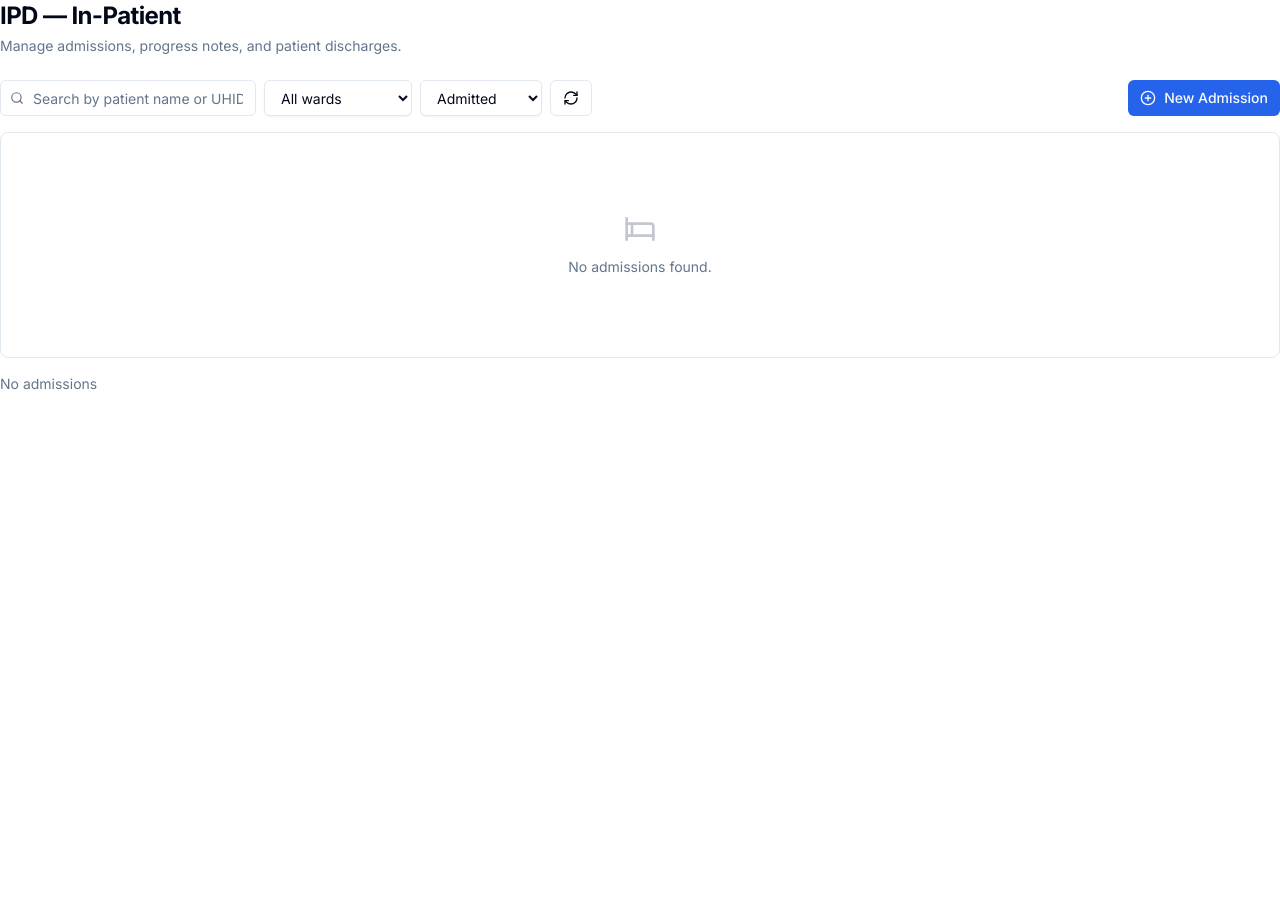
IPD New Admission — optional package › clearing the package restores manual ward selection and resets ward + bed
Click the button "New Admission".
click(1204, 98)  # box [1128, 80, 1279, 116]
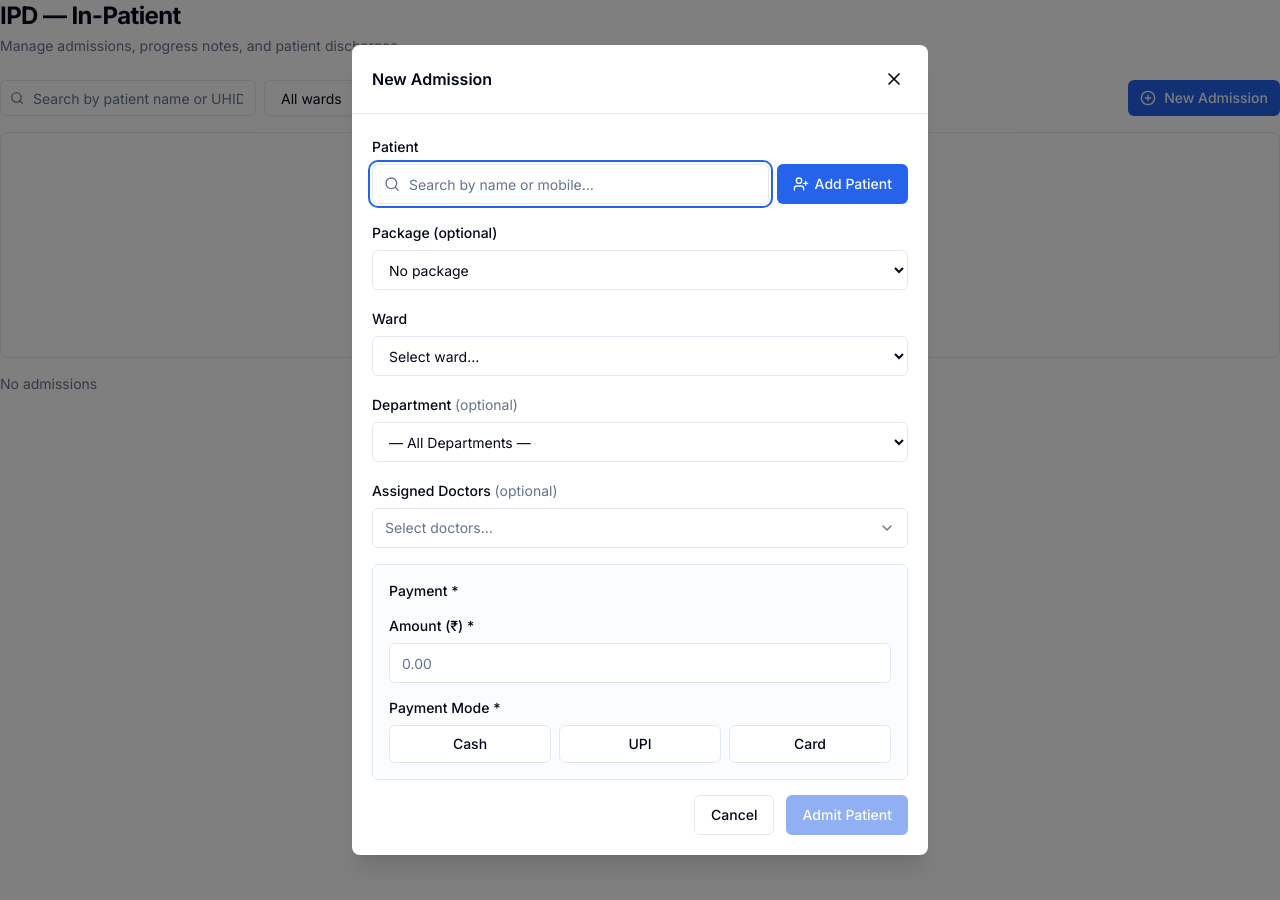
Select "Maternity Pkg — Maternity Ward" in the dropdown labelled "Package (optional)" at (640, 270), box [372, 250, 908, 290]
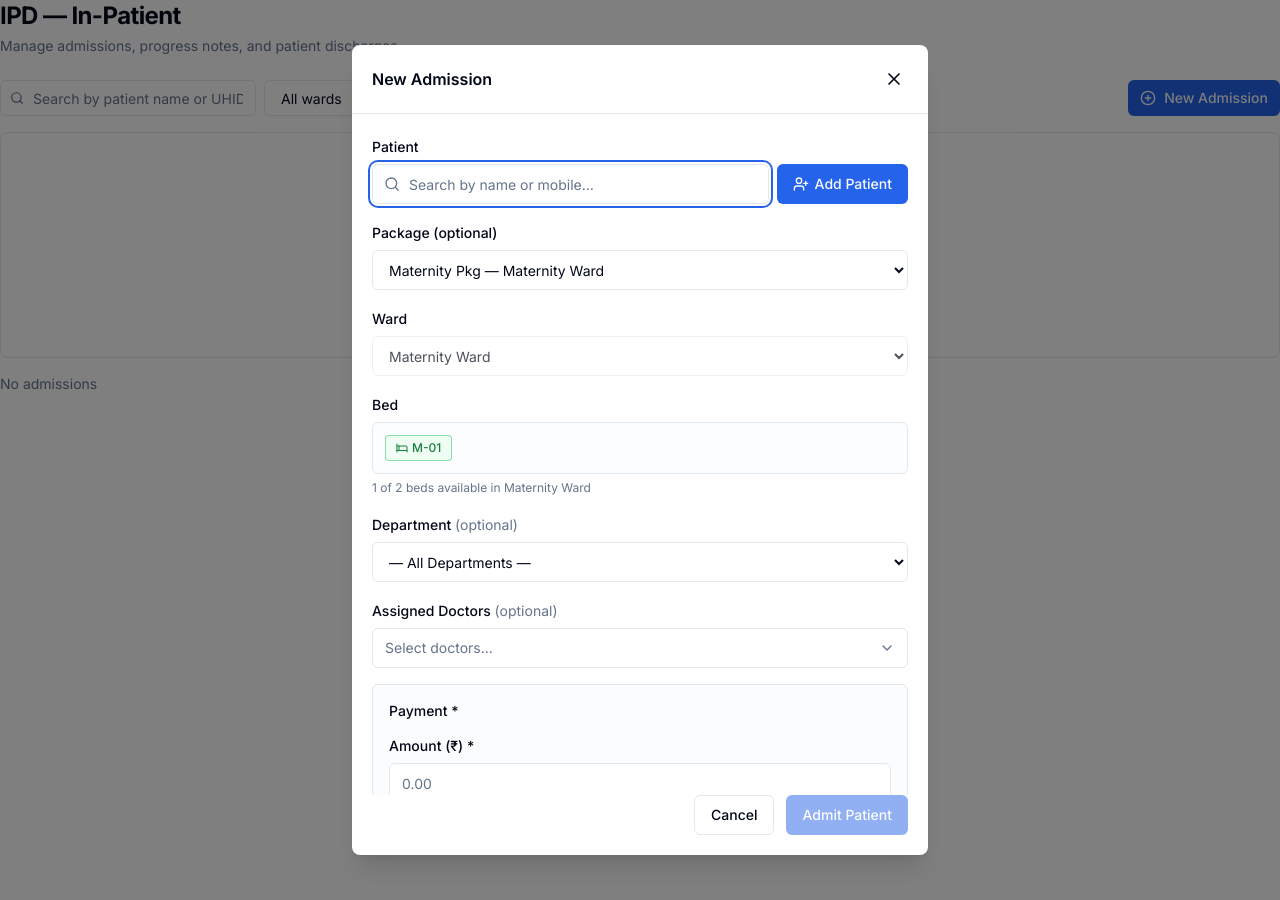
Click the button "M-01".
click(419, 448)  # box [385, 435, 452, 461]
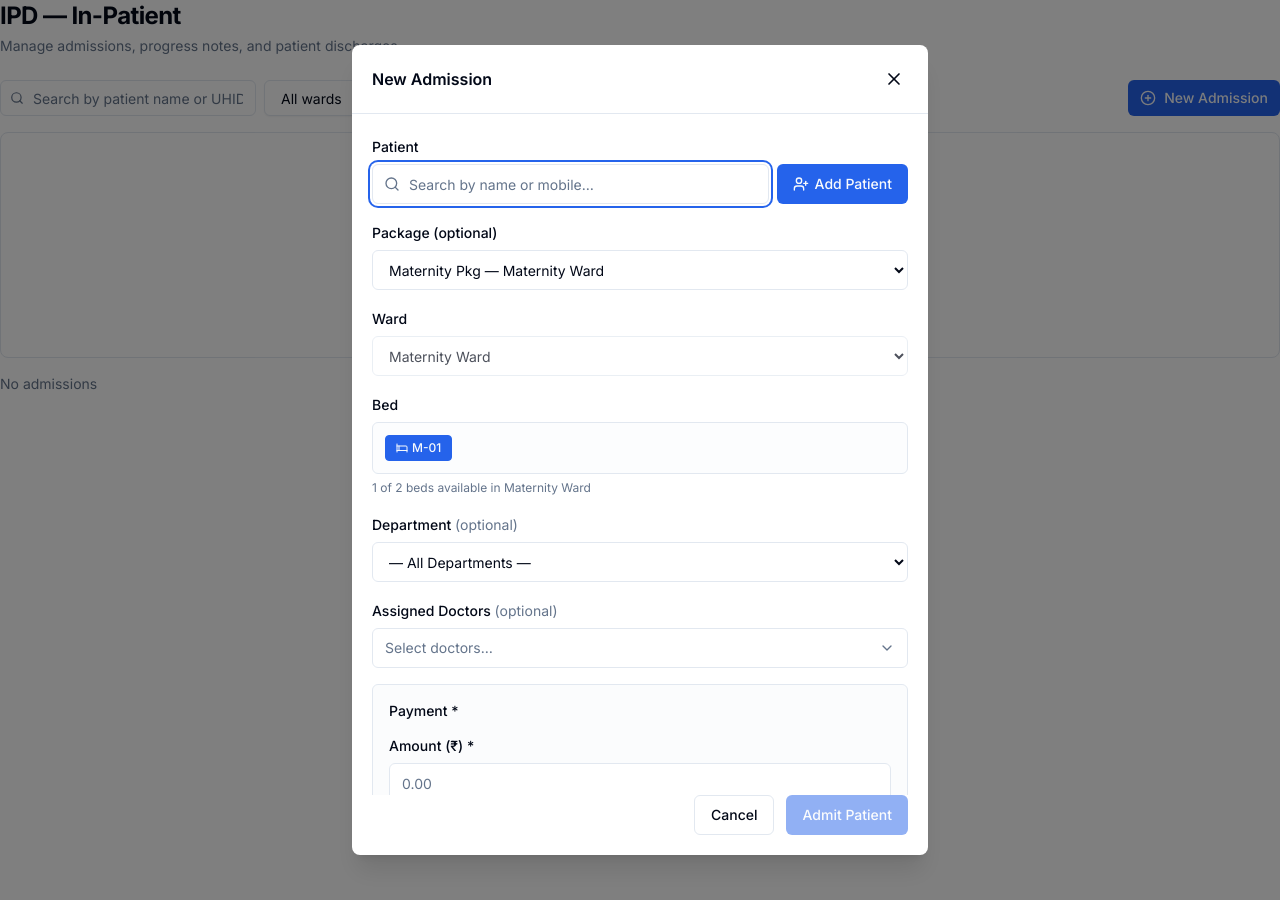
Select "No package" in the dropdown labelled "Package (optional)" at (640, 270), box [372, 250, 908, 290]
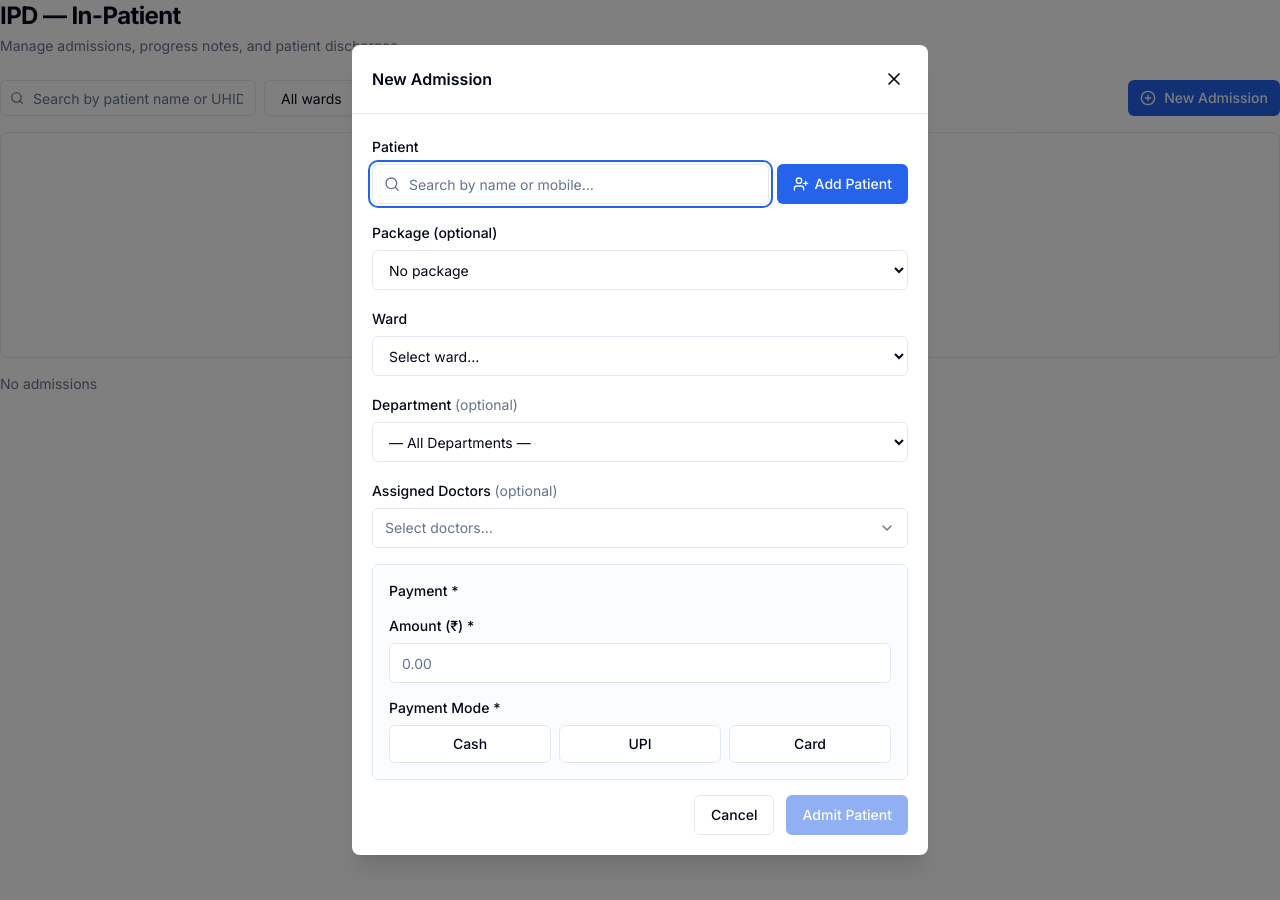
Expected: the dropdown labelled "Ward" is enabled, [372, 336, 908, 376]
Expected: the dropdown labelled "Ward" shows "Select ward…", [372, 336, 908, 376]
Expected: the button "M-01" is gone
